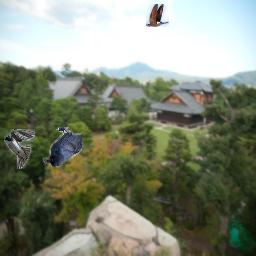Crow: (43, 127, 82, 167)
Cuckoo: (146, 4, 169, 27)
Swallow: (4, 129, 35, 169)
